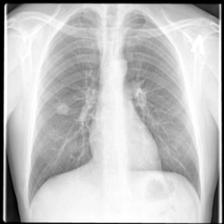tuberculosis: (25, 3, 207, 224)
